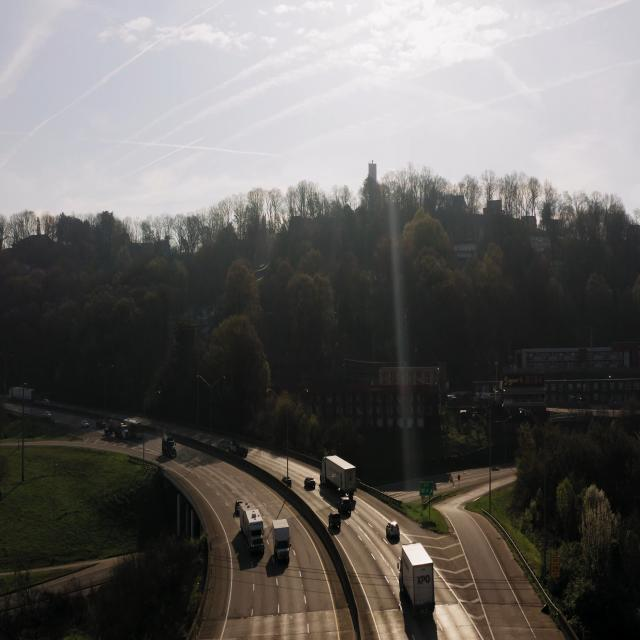Car: (398, 542, 437, 618), (319, 452, 357, 506), (240, 502, 266, 560), (270, 516, 292, 566), (327, 509, 343, 537), (385, 519, 402, 545)
